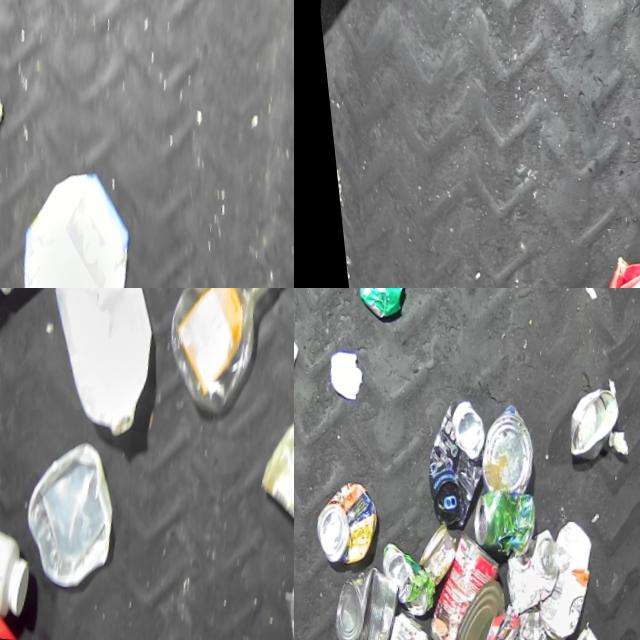can: (406, 396, 492, 533), (406, 530, 502, 640), (299, 478, 379, 571), (485, 525, 558, 624), (466, 402, 538, 499), (311, 562, 400, 640), (456, 486, 533, 562), (555, 382, 620, 466), (364, 542, 432, 621), (427, 577, 506, 640), (402, 523, 454, 591), (344, 288, 415, 324), (353, 609, 429, 640)
milk_jug: (22, 288, 175, 450)
non_white_jug: (0, 540, 28, 640), (577, 245, 640, 288)
